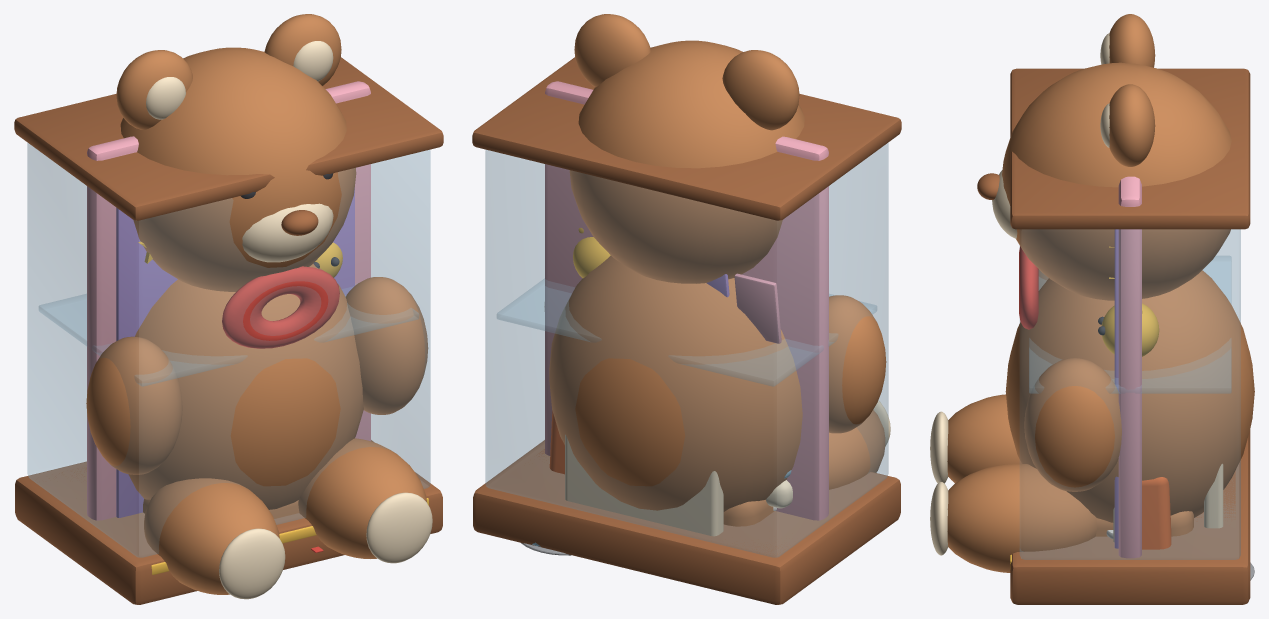
Rendered from interest_fandom_v3_8.glb.
3 views of the same model, side by side, from view 1: azimuth 30°, elevation 25°; view 2: azimuth 150°, elevation 25°; view 3: azimuth 270°, elevation 25° (orthographic). The views are drawn at different scales.
Visible parts, largest first — view 1: display_cabinet_glass, teddy_bear_body, teddy_bear_head, teddy_bear, display_cabinet_top, display_cabinet_base, fan_poster_frame, teddy_bear_arm_-1, teddy_bear_leg_-1, teddy_bear_bow, fan_poster_paper, display_cabinet_shelf (+6 smaller); view 2: display_cabinet_glass, teddy_bear_body, teddy_bear_head, display_cabinet_base, display_cabinet_top, fan_poster_frame, display_cabinet_shelf, teddy_bear_arm_-1, record_player_sleeve, teddy_bear_ear_-1, teddy_bear, teddy_bear_leg_-1 (+4 smaller); view 3: display_cabinet_glass, teddy_bear_body, teddy_bear_head, teddy_bear, display_cabinet_top, display_cabinet_base, fan_poster_frame, display_cabinet_shelf, teddy_bear_leg_-1, gunpla_robot_box, teddy_bear_ear_-1, teddy_bear_bow (+7 smaller).
Boxes of the visible parts, <box> form: display_cabinet_glass: <box>27,143,430,557</box>; teddy_bear_body: <box>128,263,363,509</box>; teddy_bear_head: <box>120,47,356,291</box>; teddy_bear: <box>264,14,432,563</box>; display_cabinet_top: <box>14,57,443,220</box>; display_cabinet_base: <box>15,440,442,604</box>; fan_poster_frame: <box>87,81,370,520</box>; teddy_bear_arm_-1: <box>86,336,182,474</box>; teddy_bear_leg_-1: <box>144,478,279,594</box>; teddy_bear_bow: <box>222,266,339,348</box>; fan_poster_paper: <box>116,187,354,517</box>; display_cabinet_shelf: <box>39,284,418,386</box>; display_cabinet_glass: <box>485,143,888,557</box>; teddy_bear_body: <box>549,255,802,511</box>; teddy_bear_head: <box>569,40,804,283</box>; display_cabinet_base: <box>473,440,900,604</box>; display_cabinet_top: <box>472,57,901,220</box>; fan_poster_frame: <box>545,81,828,520</box>; display_cabinet_shelf: <box>497,278,876,386</box>; teddy_bear_arm_-1: <box>829,295,886,433</box>; record_player_sleeve: <box>565,434,723,536</box>; teddy_bear_ear_-1: <box>722,50,799,130</box>; teddy_bear: <box>544,14,650,307</box>; teddy_bear_leg_-1: <box>829,410,885,489</box>; display_cabinet_glass: <box>1020,229,1240,559</box>; teddy_bear_body: <box>1005,270,1254,522</box>; teddy_bear_head: <box>1002,62,1231,300</box>; teddy_bear: <box>930,84,1155,572</box>; display_cabinet_top: <box>1010,68,1250,229</box>; display_cabinet_base: <box>1010,430,1250,604</box>; fan_poster_frame: <box>1118,176,1141,558</box>; display_cabinet_shelf: <box>1029,256,1231,393</box>; teddy_bear_leg_-1: <box>947,394,1021,483</box>; gunpla_robot_box: <box>1142,477,1171,549</box>; teddy_bear_ear_-1: <box>1109,14,1155,67</box>; teddy_bear_bow: <box>1019,246,1038,329</box>.
Bounding box in the file's own units: 0.399 × 0.575 × 0.352.
